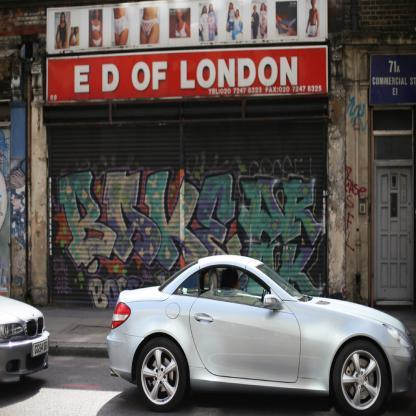car: (105, 252, 416, 416), (0, 291, 51, 393)
